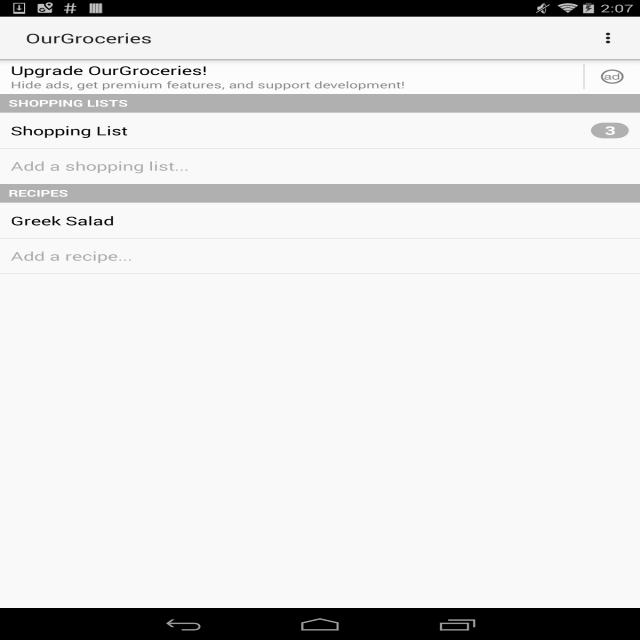CheckedTextView: (0, 203, 640, 238), (10, 62, 572, 78)
ImageButton: (584, 59, 640, 93)
ImageView: (589, 22, 631, 54)
TextView: (0, 149, 640, 183), (0, 239, 640, 273), (0, 113, 586, 148), (0, 94, 640, 113), (0, 184, 640, 203), (11, 78, 405, 91), (26, 29, 152, 47)
